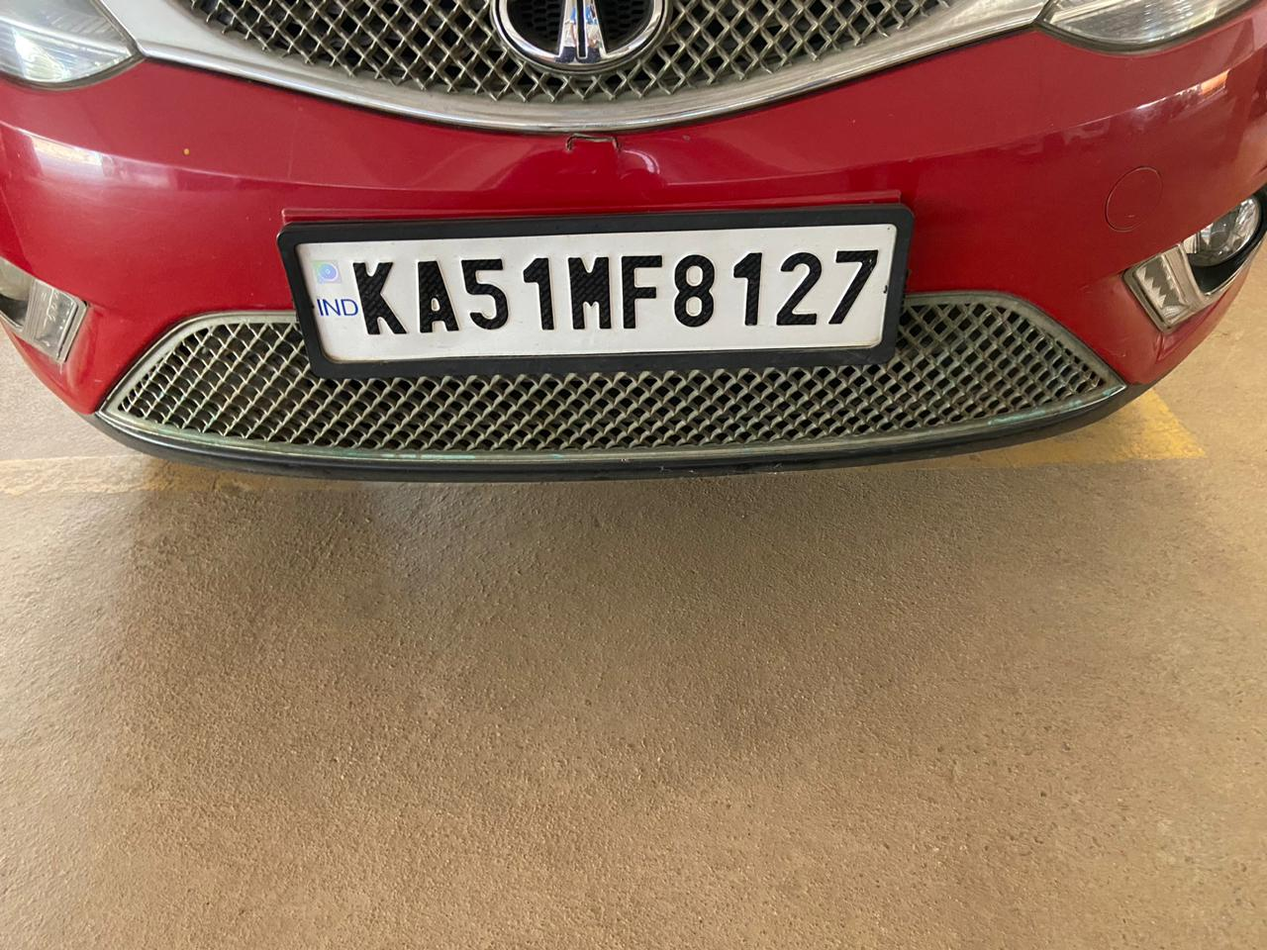1: (517, 252, 566, 345), (731, 250, 764, 339)
2: (770, 252, 826, 342)
5: (456, 250, 519, 342)
7: (830, 244, 882, 337)
8: (668, 244, 728, 339)
A: (408, 252, 460, 350)
F: (616, 248, 671, 331)
K: (345, 252, 408, 345)
M: (561, 246, 622, 333)
